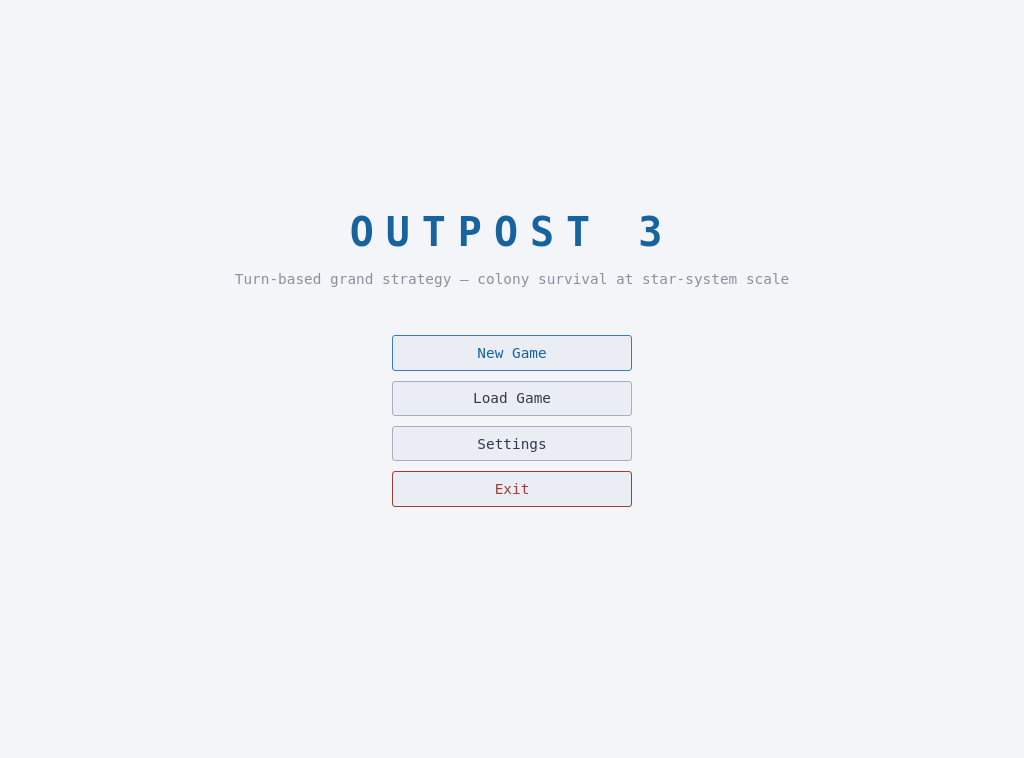
MainMenuView system-generation sliders (playtest feedback round 3, Tauri desktop New Game panel) › clamps the giant-moon min/max sliders so they never cross
The width and height of the screenshot is (1024, 758).
Click the button with test id "btn-new-game".
click(512, 353)  # box [392,335,632,371]
(page scrolled)
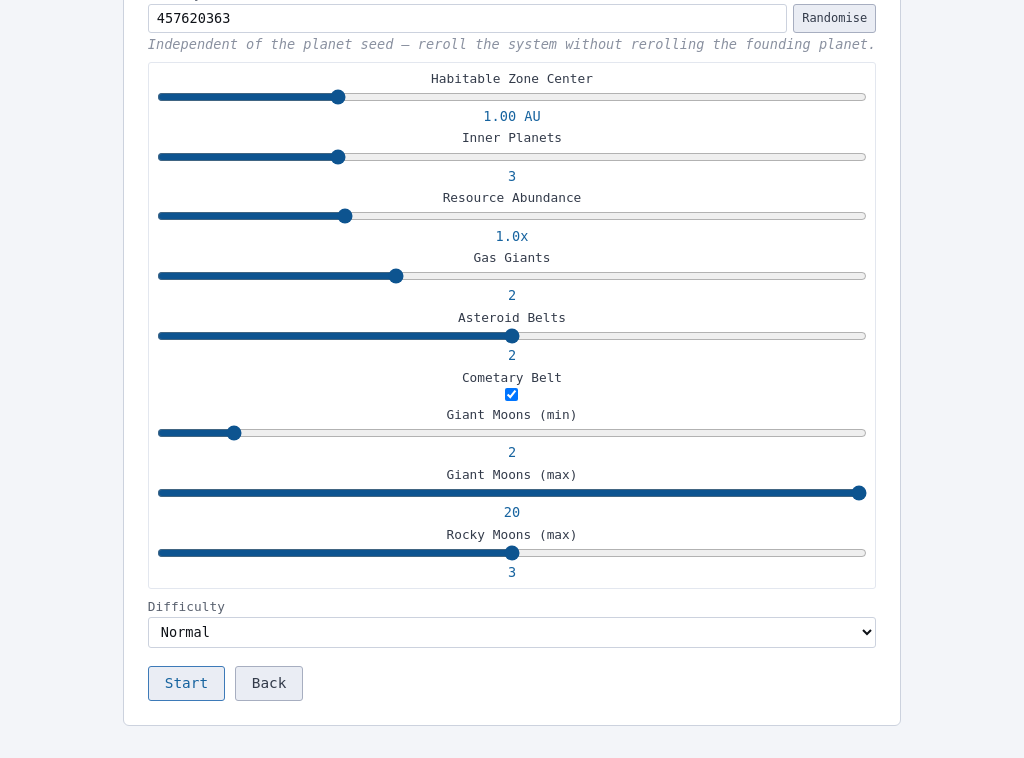
Bring max down first so a subsequent min raise has room to cross it.
Set the slider with test id "giant-moons-max-slider" to "10" at (512, 493), box [157,485,867,501]
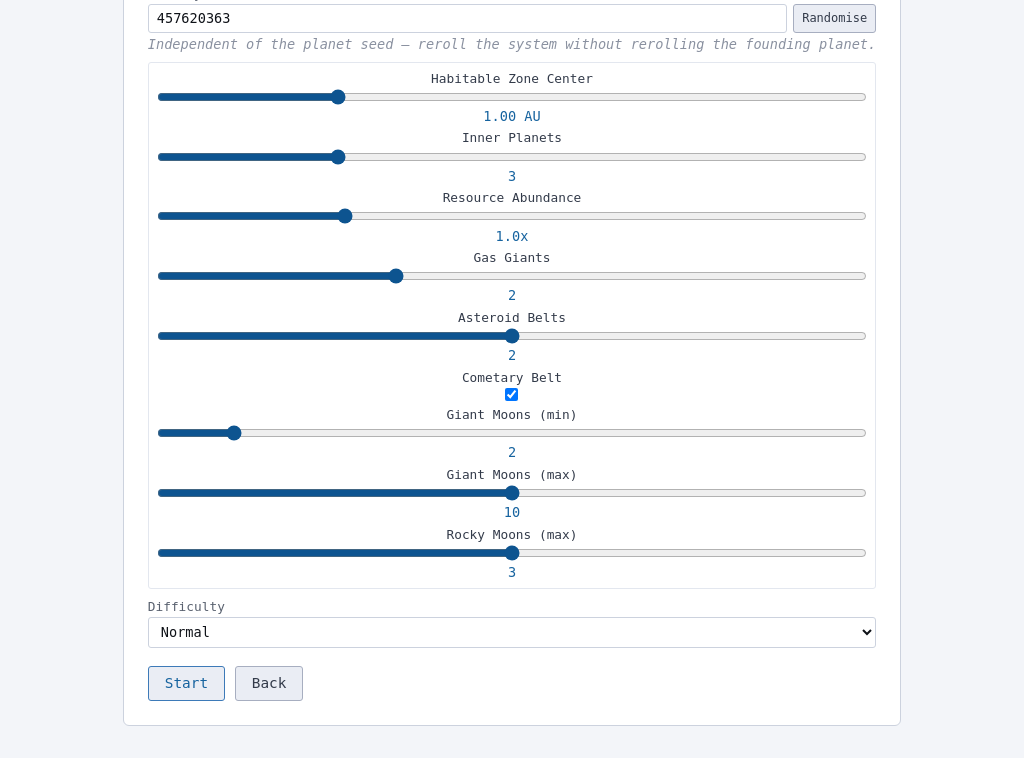
Dragging min above the current max pulls max up with it.
Set the slider with test id "giant-moons-min-slider" to "15" at (686, 433), box [157,425,867,441]
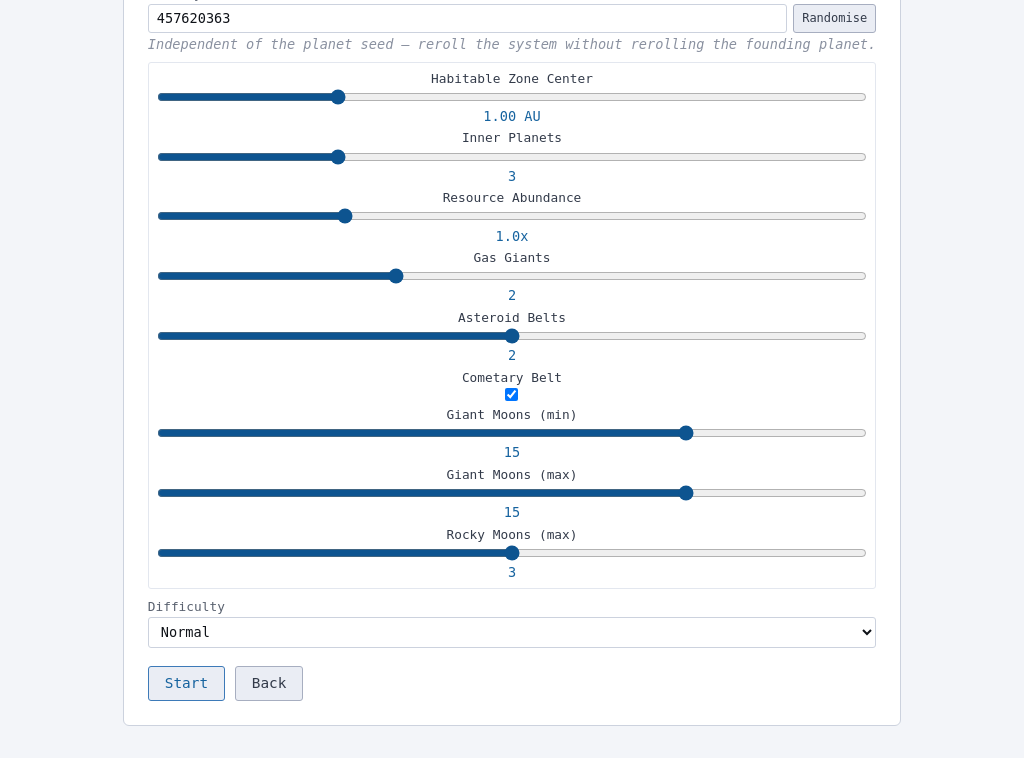
Expected: the slider with test id "giant-moons-max-slider" holds "15"
Dragging max below the current min pulls min down with it.
Set the slider with test id "giant-moons-max-slider" to "3" at (269, 493), box [157,485,867,501]
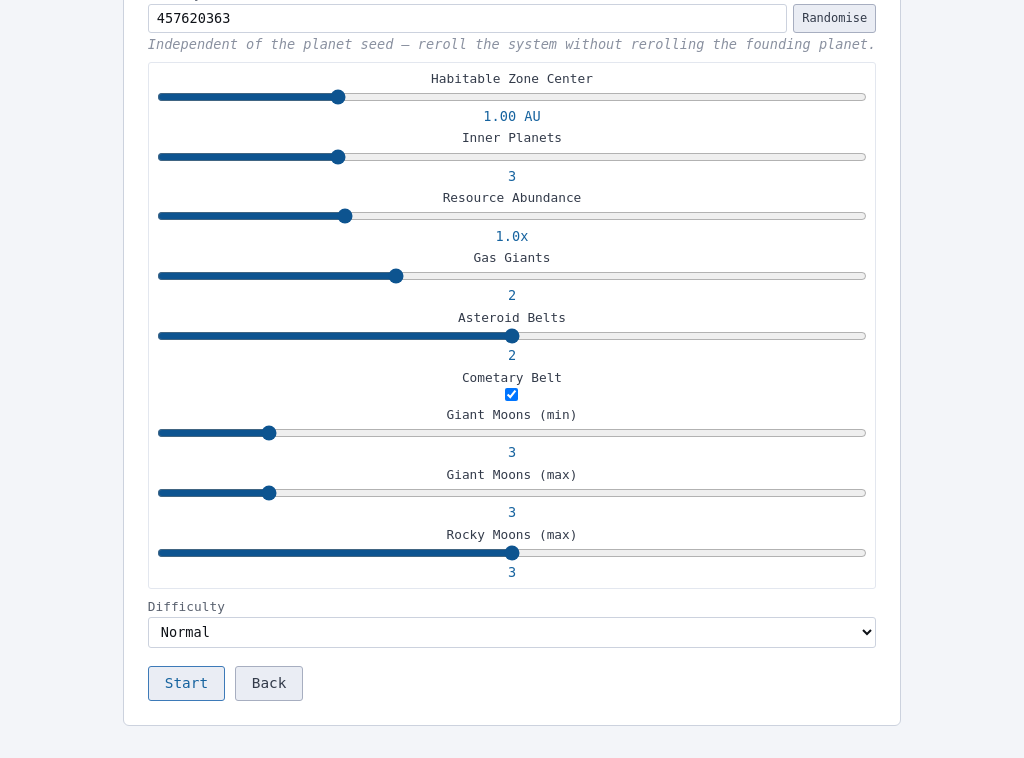
Expected: the slider with test id "giant-moons-min-slider" holds "3", [157,425,867,441]
